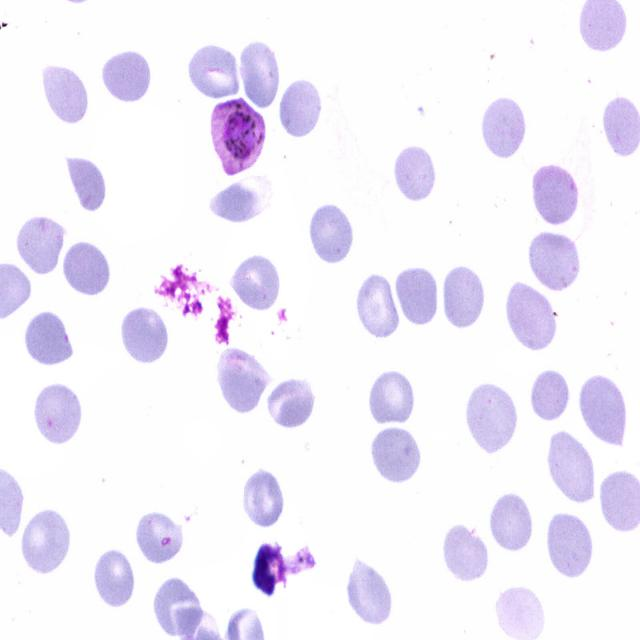gametocyte: (212, 101, 265, 176)
red blood cell: (464, 379, 516, 457), (506, 280, 558, 352), (216, 346, 272, 412), (20, 506, 72, 576), (544, 509, 595, 580), (580, 371, 628, 446), (32, 380, 84, 447), (480, 90, 528, 161), (528, 229, 582, 292), (530, 160, 580, 227), (548, 431, 595, 502), (15, 211, 66, 276), (227, 254, 283, 312), (42, 60, 90, 126), (120, 303, 170, 366), (370, 423, 420, 485), (25, 308, 74, 370), (487, 492, 536, 554), (348, 558, 394, 624), (440, 263, 485, 330), (396, 262, 440, 329), (92, 546, 138, 610), (100, 49, 152, 105), (239, 39, 280, 110), (186, 45, 239, 99), (62, 238, 111, 296), (309, 204, 354, 267), (440, 523, 488, 582), (356, 273, 399, 338), (368, 368, 416, 426), (154, 577, 200, 637), (266, 375, 316, 430), (390, 146, 436, 204), (137, 510, 186, 564), (279, 80, 323, 138), (242, 469, 285, 528), (530, 367, 570, 422), (66, 157, 106, 210), (209, 184, 261, 222)
